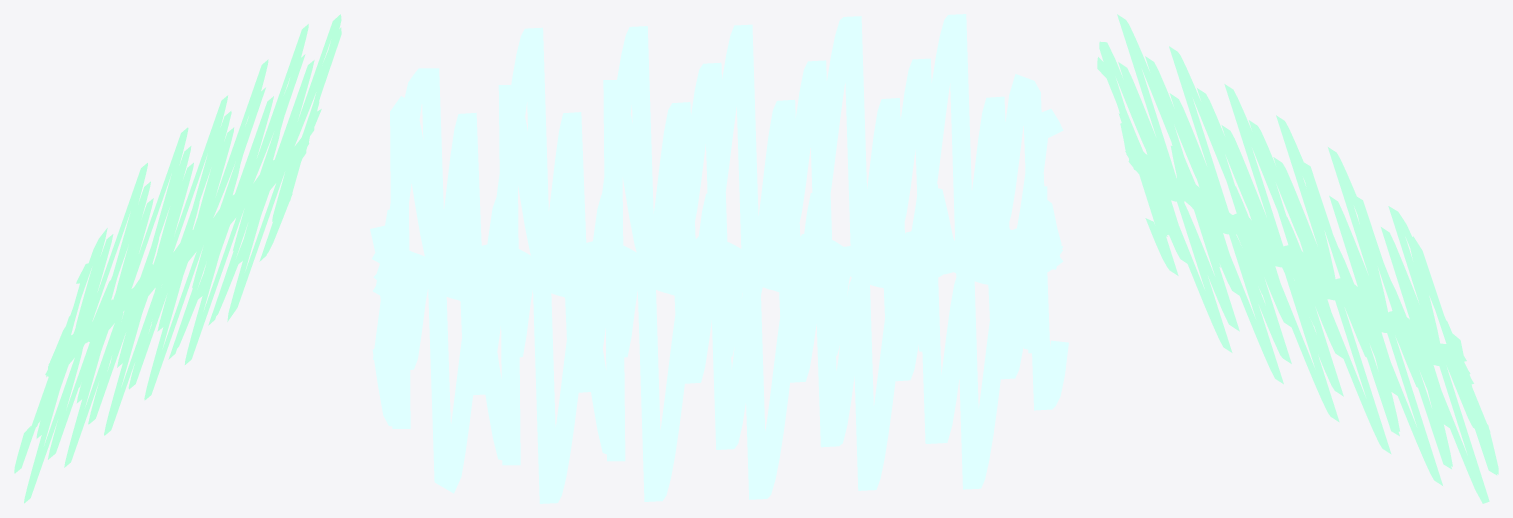
File: scope.glb
3 renders of one model, left to right at view 1: azimuth 30°, elevation 25°; view 2: azimuth 150°, elevation 25°; view 3: azimuth 270°, elevation 25°, orthographic. The views are drawn at different scales.
Parts seen in each view (by area): view 1: mqb_trace_2, mqb_trace_5, mqb_trace_1, mqb_trace_3, mqb_trace_4, mqb_trace_6, mqb_trace_0, mqb_trace_7, mqb_trace_9, mqb_trace_8; view 2: mqb_trace_1, mqb_trace_3, mqb_trace_6, mqb_trace_2, mqb_trace_5, mqb_trace_4, mqb_trace_8, mqb_trace_7, mqb_trace_9, mqb_trace_0; view 3: mqb_trace_5, mqb_trace_1, mqb_trace_2, mqb_trace_3, mqb_trace_4, mqb_trace_6, mqb_trace_0, mqb_trace_7, mqb_trace_9, mqb_trace_8.
Part boxes in pixels (<box>): mqb_trace_2: <box>48,24,308,459</box>; mqb_trace_5: <box>38,96,319,467</box>; mqb_trace_1: <box>30,14,341,432</box>; mqb_trace_3: <box>14,59,305,473</box>; mqb_trace_4: <box>45,60,314,435</box>; mqb_trace_6: <box>24,127,305,503</box>; mqb_trace_0: <box>46,108,314,389</box>; mqb_trace_7: <box>59,27,341,367</box>; mqb_trace_9: <box>36,87,321,438</box>; mqb_trace_8: <box>49,54,305,403</box>; mqb_trace_1: <box>373,60,1061,493</box>; mqb_trace_3: <box>373,26,1068,501</box>; mqb_trace_6: <box>380,14,1062,489</box>; mqb_trace_2: <box>378,27,1057,503</box>; mqb_trace_5: <box>373,16,1057,490</box>; mqb_trace_4: <box>377,24,1063,499</box>; mqb_trace_8: <box>380,85,1060,465</box>; mqb_trace_7: <box>372,96,1063,428</box>; mqb_trace_9: <box>370,80,1062,461</box>; mqb_trace_0: <box>372,62,1060,449</box>; mqb_trace_5: <box>1127,46,1481,433</box>; mqb_trace_1: <box>1118,88,1489,503</box>; mqb_trace_2: <box>1125,56,1470,485</box>; mqb_trace_3: <box>1099,41,1490,454</box>; mqb_trace_4: <box>1128,84,1469,427</box>; mqb_trace_6: <box>1117,14,1456,392</box>; mqb_trace_0: <box>1131,120,1466,430</box>; mqb_trace_7: <box>1097,57,1498,475</box>; mqb_trace_9: <box>1118,62,1463,436</box>; mqb_trace_8: <box>1128,93,1472,469</box>.
Bounding box in the file's own units: 0.0881 × 0.067 × 0.0659.
